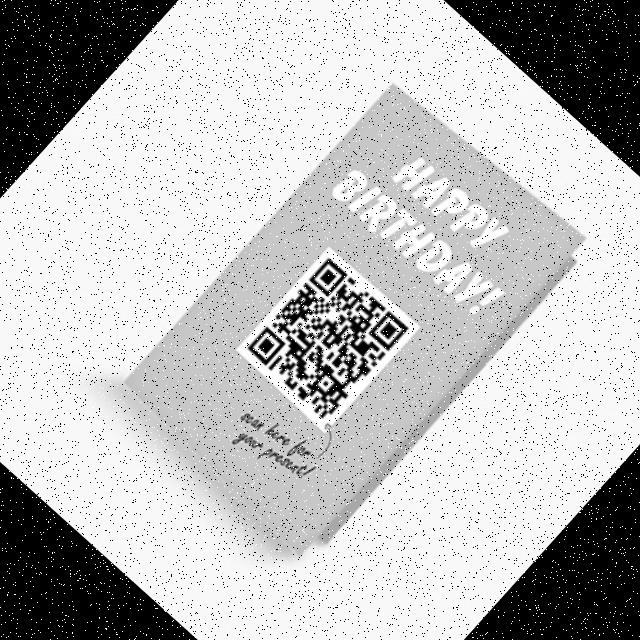QR-codes: (242, 250, 414, 424)
